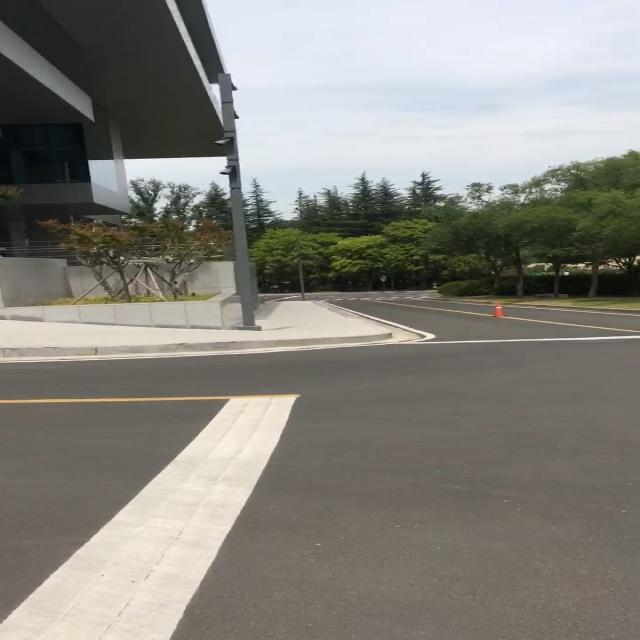obstacle: (486, 299, 513, 321)
road: (0, 311, 640, 640)
sidewalk: (0, 298, 394, 360)
